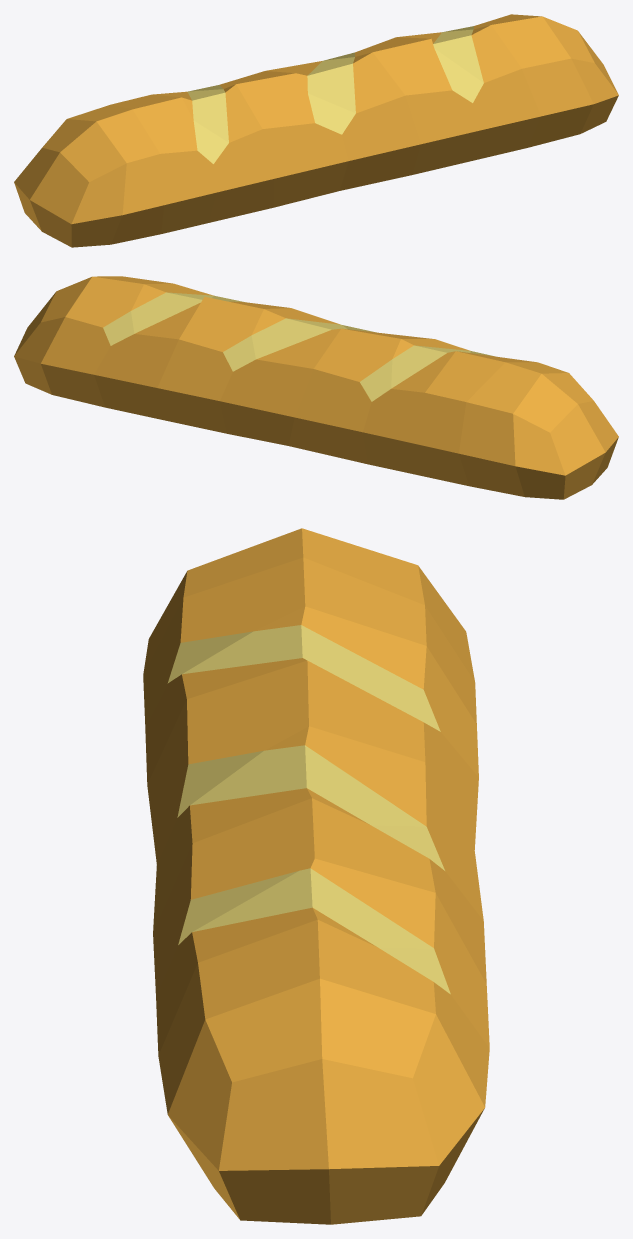
The model's file is bread.fbx.
The picture shows the model from 3 angles, top to bottom: view 1: azimuth 30°, elevation 25°; view 2: azimuth 150°, elevation 25°; view 3: azimuth 270°, elevation 25°; orthographic projection. The views are drawn at different scales.
Visible parts, largest first — view 1: bread; view 2: bread; view 3: bread.
Boxes of the visible parts, x1,y1,x2,y2 form: bread: [14, 14, 618, 247]; bread: [14, 276, 618, 499]; bread: [143, 528, 489, 1224].
Bounding box in the file's own units: 183 × 33.86 × 47.92.
